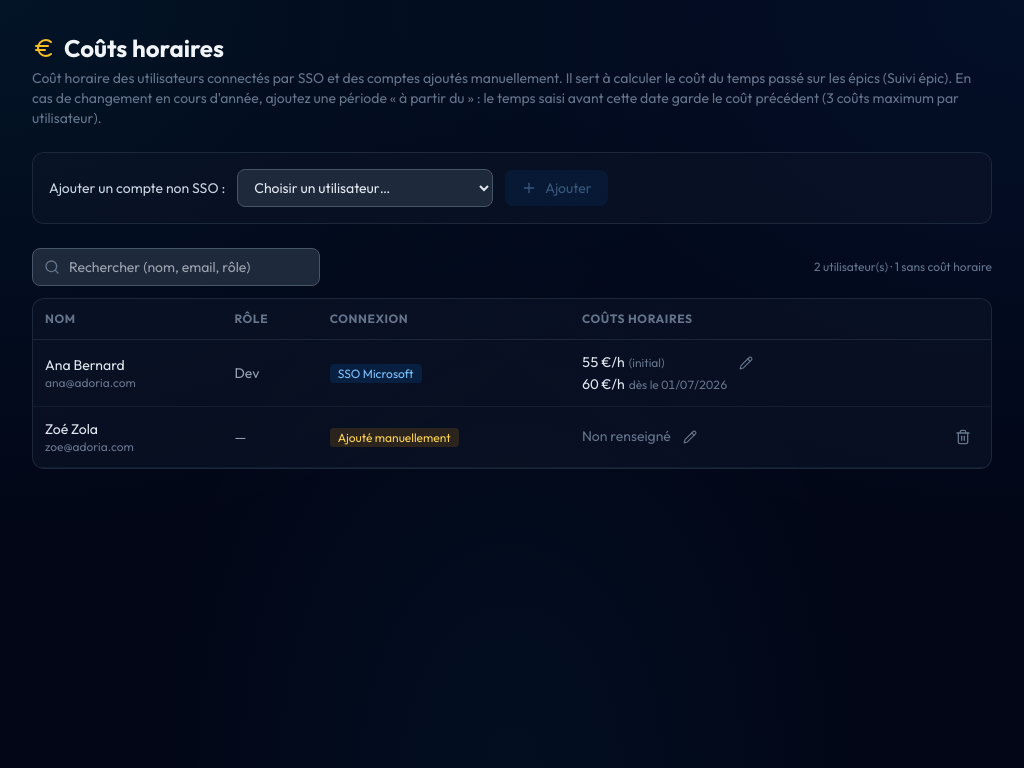
CostsPage › garde l'édition ouverte si le serveur refuse
The image size is (1024, 768).
Click the button named "Modifier les coûts de Zoé Zola" at (690, 437), box [679,426,701,448]
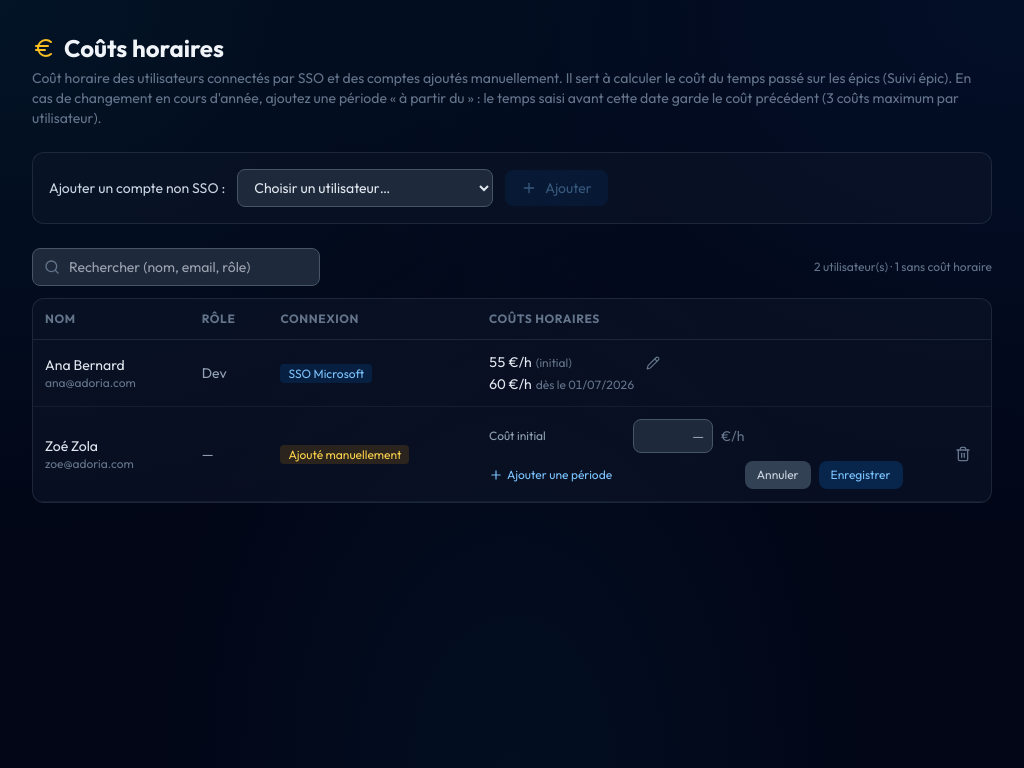
Type "40" into the field named "Coût initial de Zoé Zola" at (673, 436), box [633,419,713,453]
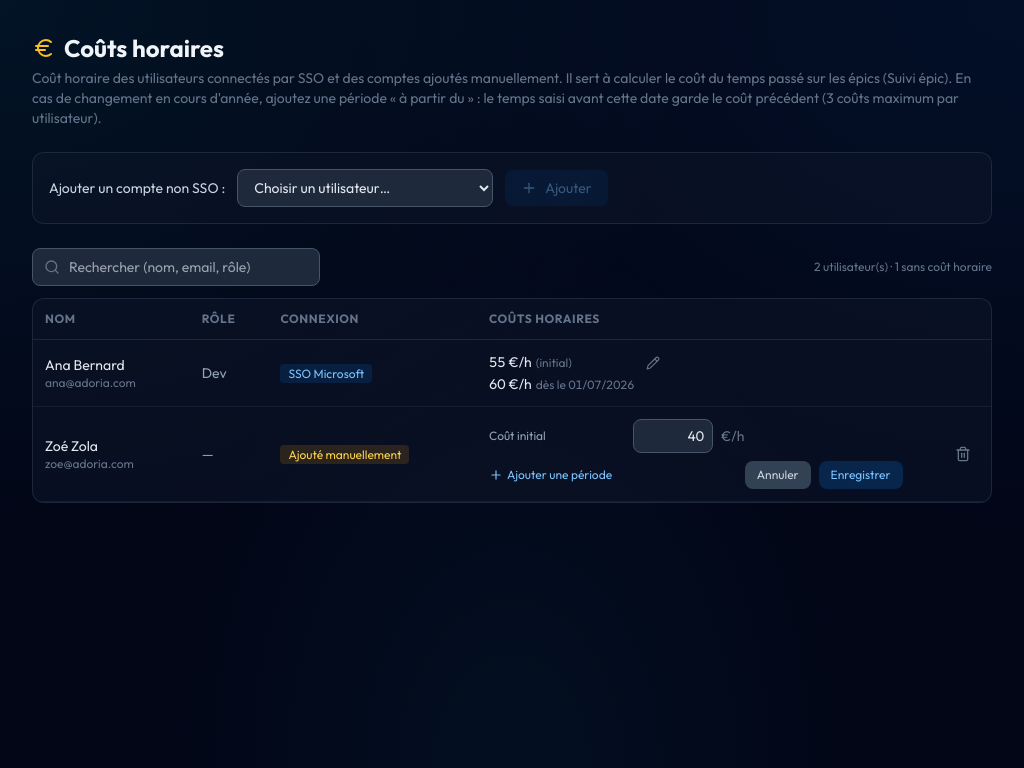
Click the button "Enregistrer" at (861, 475), box [819,461,903,489]
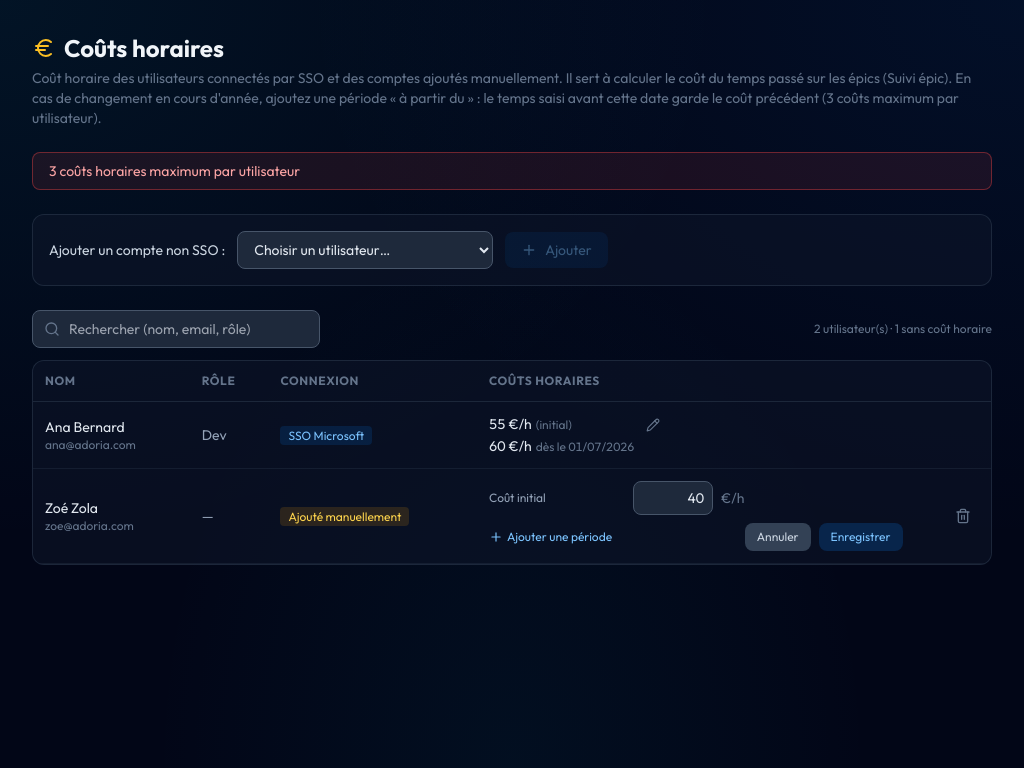
Expected: the element named "Édition des coûts de Zoé Zola" is shown, [489,481,903,551]
Expected: the text "3 coûts horaires maximum par utilisateur" is shown, [32,152,992,190]
